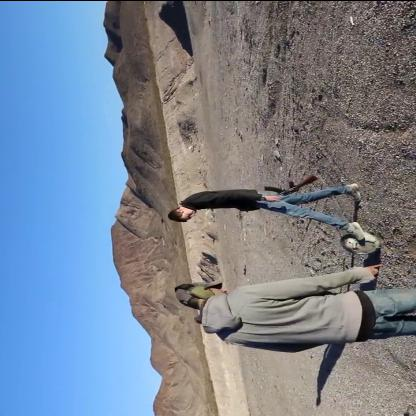long weapon: (241, 170, 323, 210)
